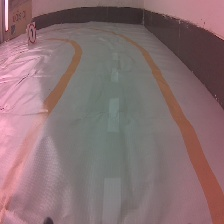limit: (26, 22, 37, 46)
